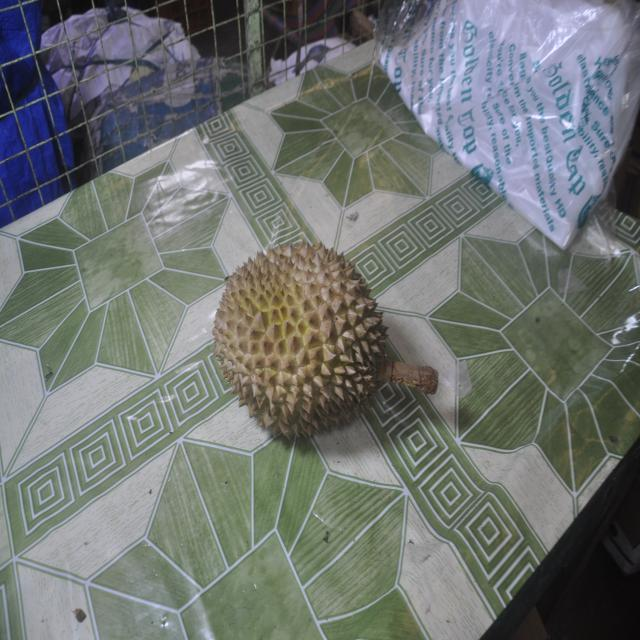mature: (213, 242, 438, 438)
